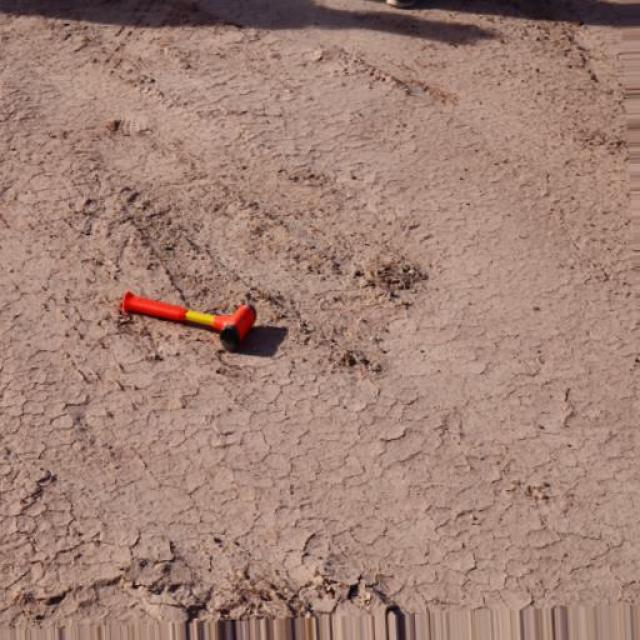mallet: (118, 289, 256, 350)
